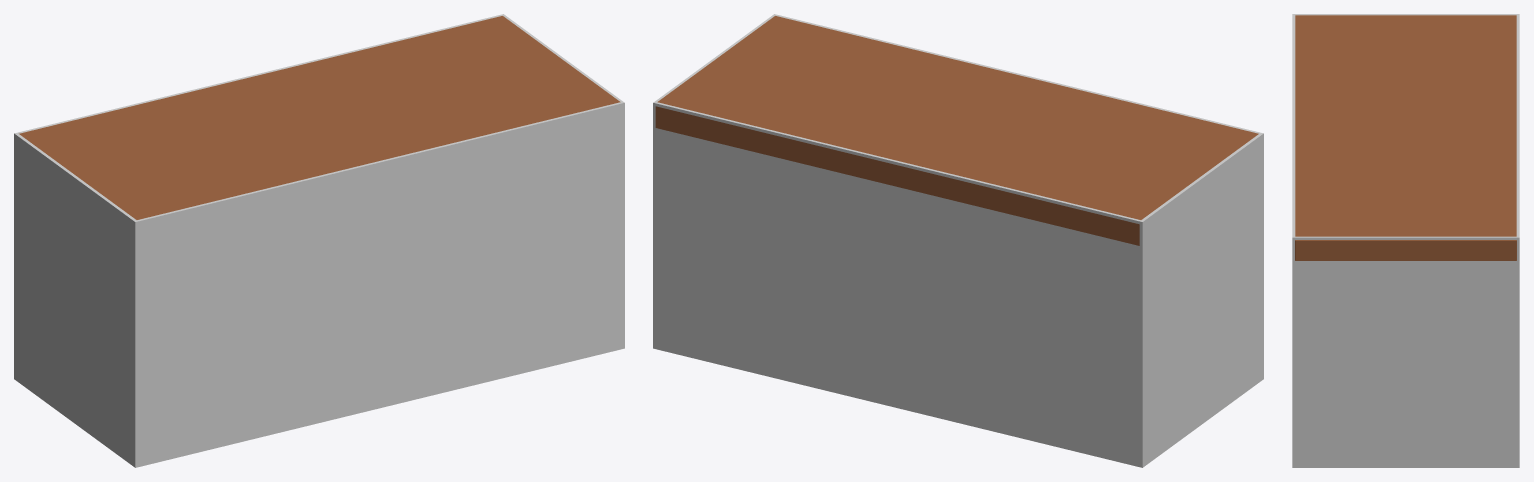
The model's file is table-a.glb.
3 renders of one model, left to right at view 1: azimuth 30°, elevation 25°; view 2: azimuth 150°, elevation 25°; view 3: azimuth 270°, elevation 25°, orthographic. The views are drawn at different scales.
Parts seen in each view (by area): view 1: Table A_col, Table A; view 2: Table A_col, Table A; view 3: Table A, Table A_col.
Boxes of the visible parts, bbox=[...] form: Table A_col: bbox=[14, 14, 624, 467]; Table A: bbox=[19, 16, 620, 219]; Table A_col: bbox=[653, 14, 1263, 467]; Table A: bbox=[655, 16, 1258, 245]; Table A: bbox=[1295, 15, 1516, 260]; Table A_col: bbox=[1292, 14, 1519, 467].
Size of the model in its own units: 8.3 by 3.98 by 3.56.
